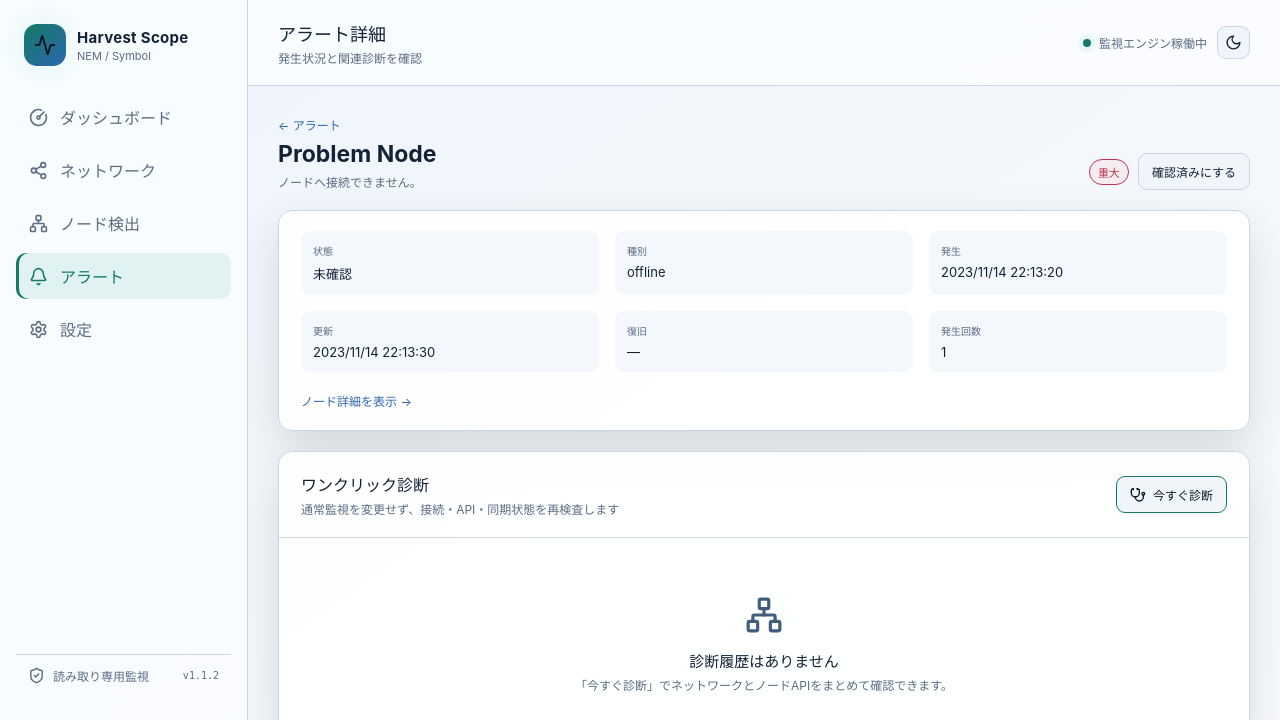
Test case: 障害詳細からワンクリック診断を実行する
The width and height of the screenshot is (1280, 720).
Expected: the heading "Problem Node" is shown, [278,140,436,168]
What coordinates should you click on to do the following:
click the button "今すぐ診断"
I would click on:
 (1172, 494)
Its box is [1116,476,1227,513].
(page scrolled)
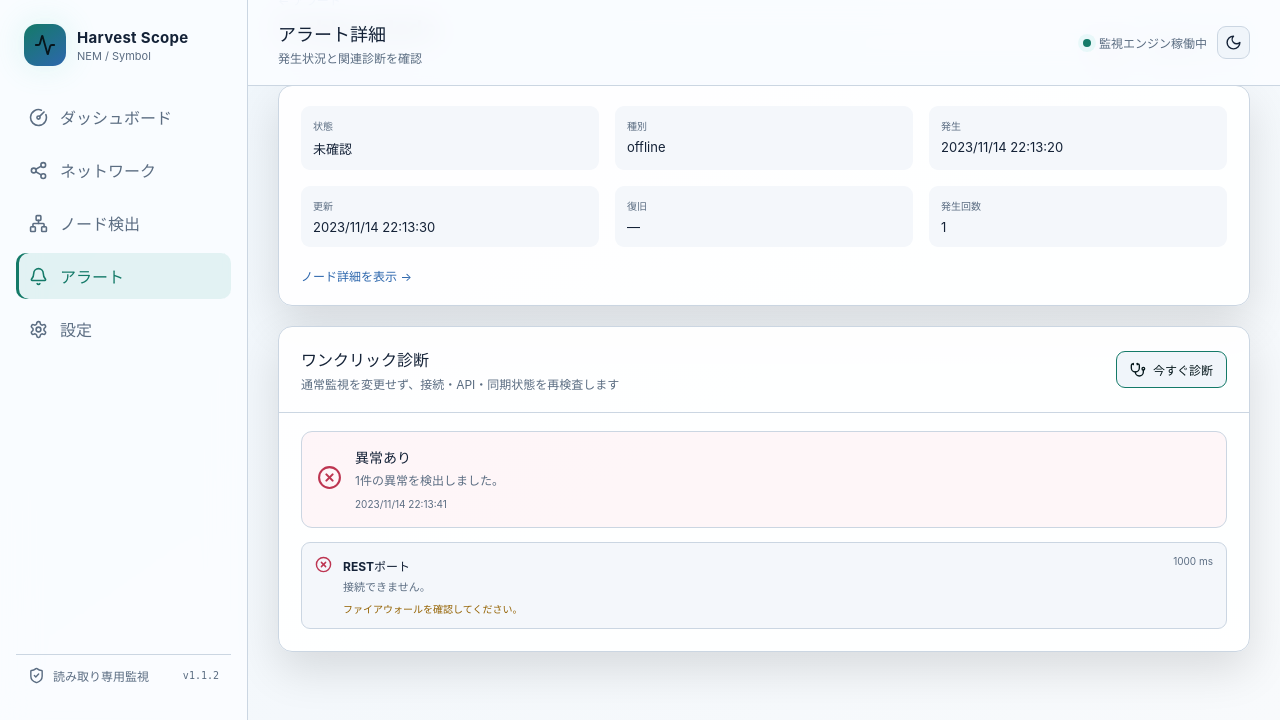
Expected: the text "1件の異常を検出しました。" is shown, [355,471,504,488]
Expected: the text "ファイアウォールを確認してください。" is shown, [343,603,522,615]
